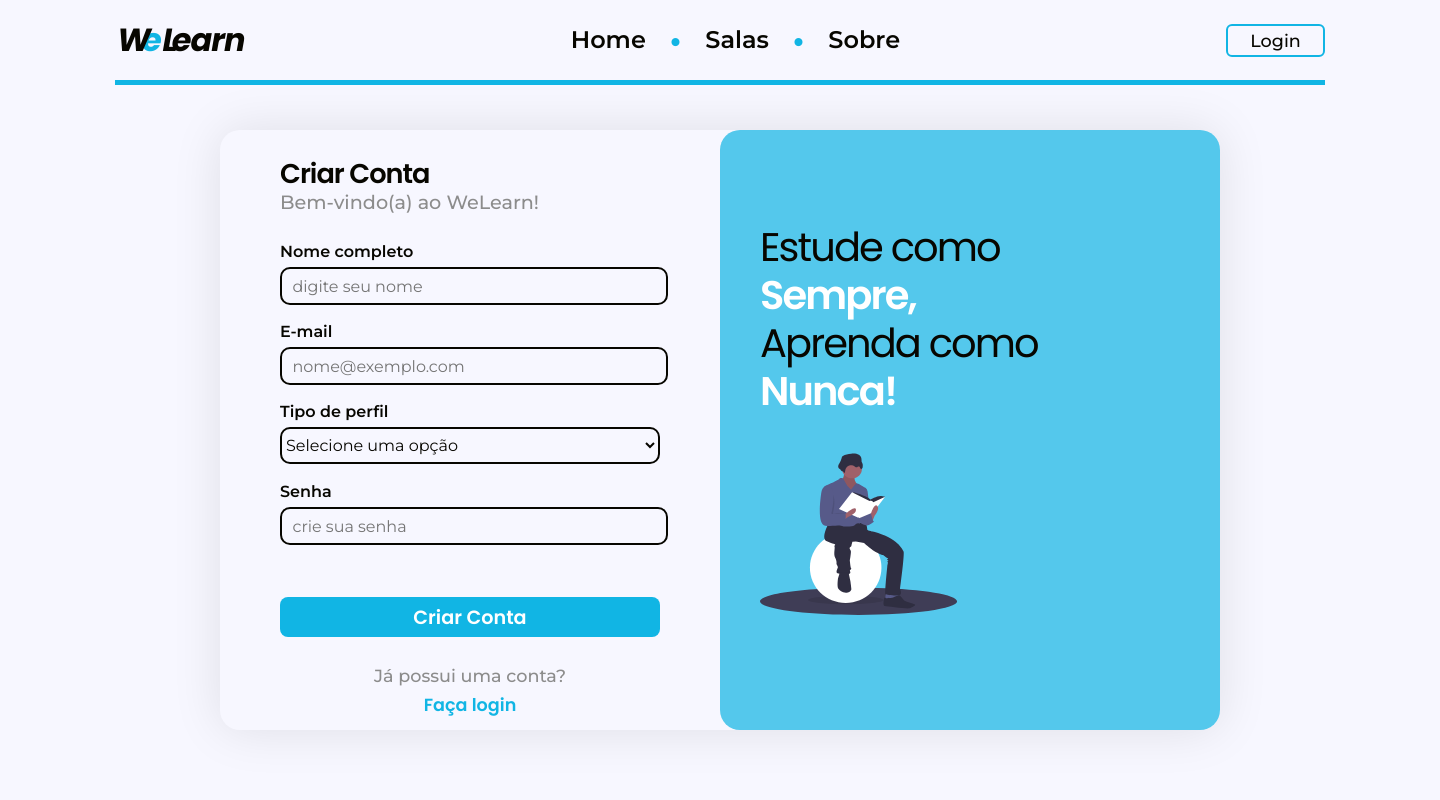
Test: Create Account Page › should show an error if no profile type is selected
Testa a criação de conta sem selecionar o tipo de perfil
Type "John Doe" into the field with placeholder " digite seu nome" at (474, 286), box [280, 267, 668, 305]
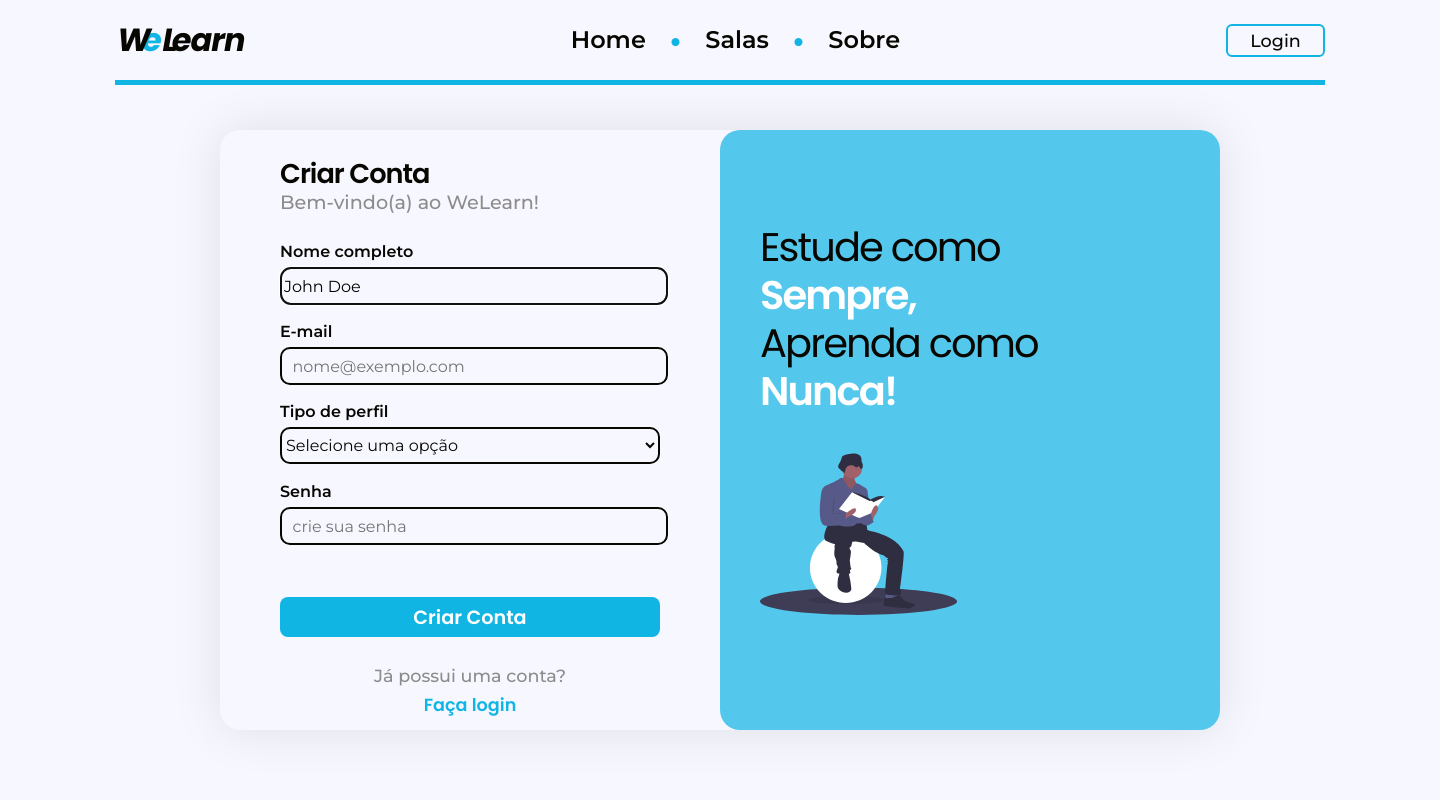
Type "user@example.com" into the field with placeholder " nome@exemplo.com" at (474, 366), box [280, 347, 668, 385]
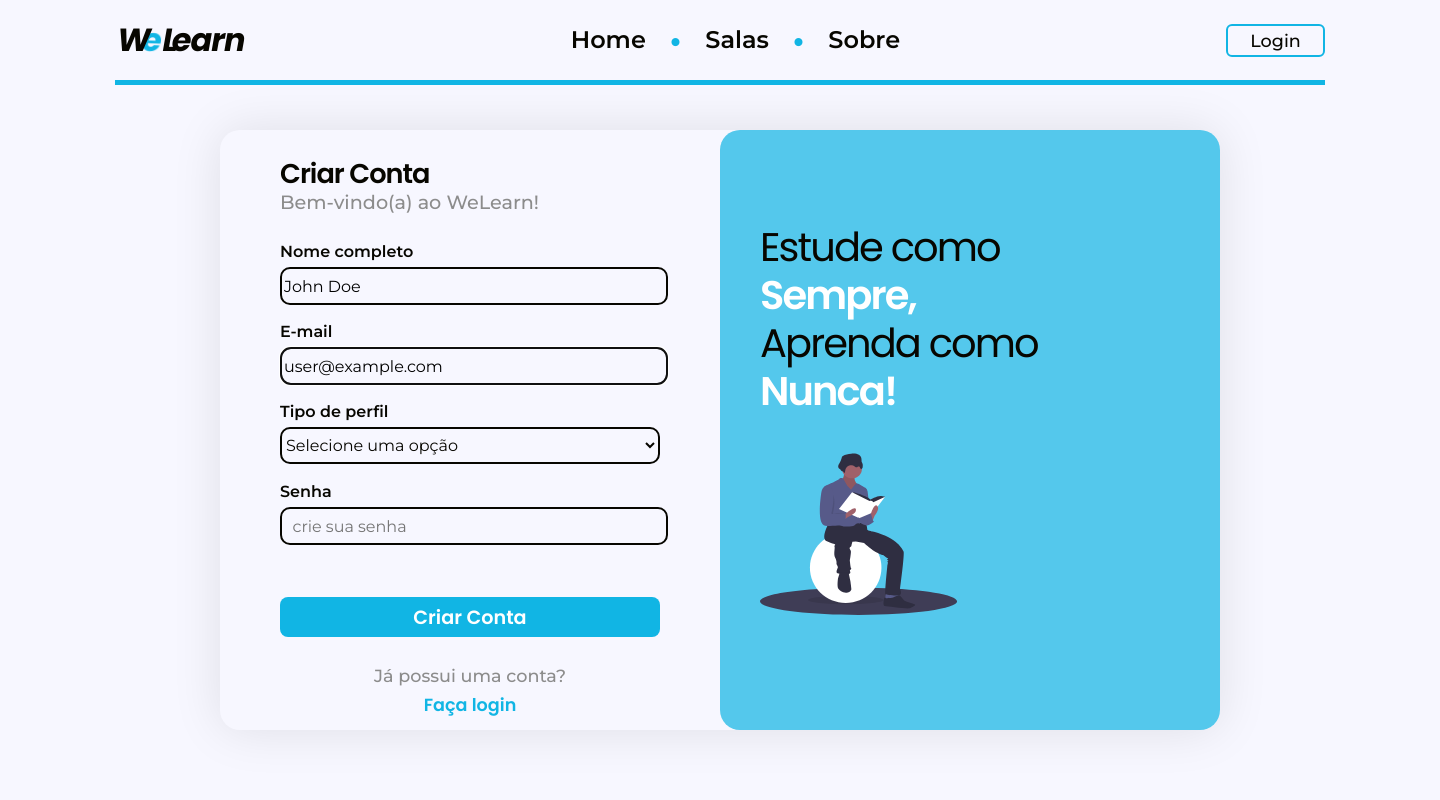
Type "password123" into the password field with placeholder " crie sua senha" at (474, 526), box [280, 507, 668, 545]
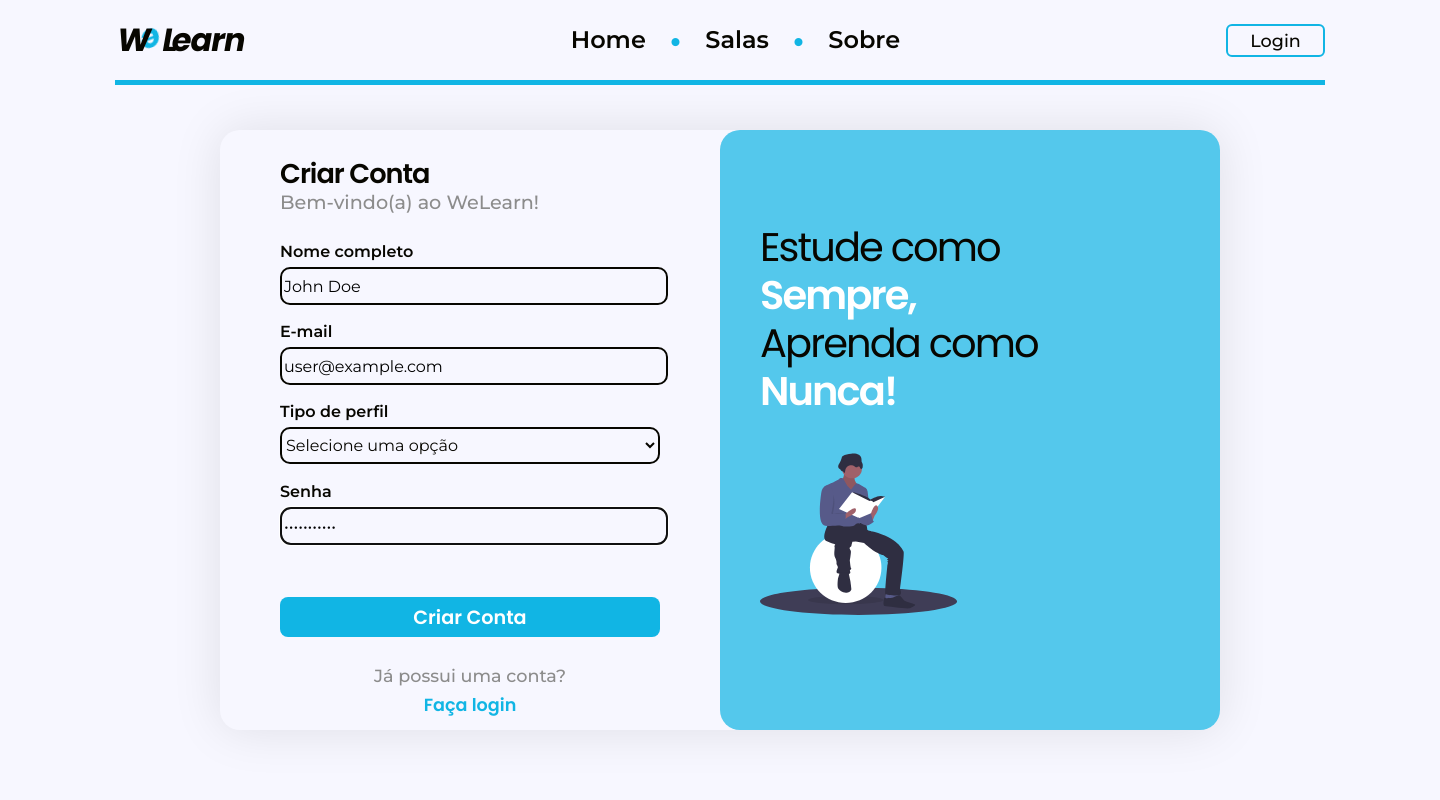
Click the button "Criar Conta" at (470, 617), box [280, 597, 660, 637]
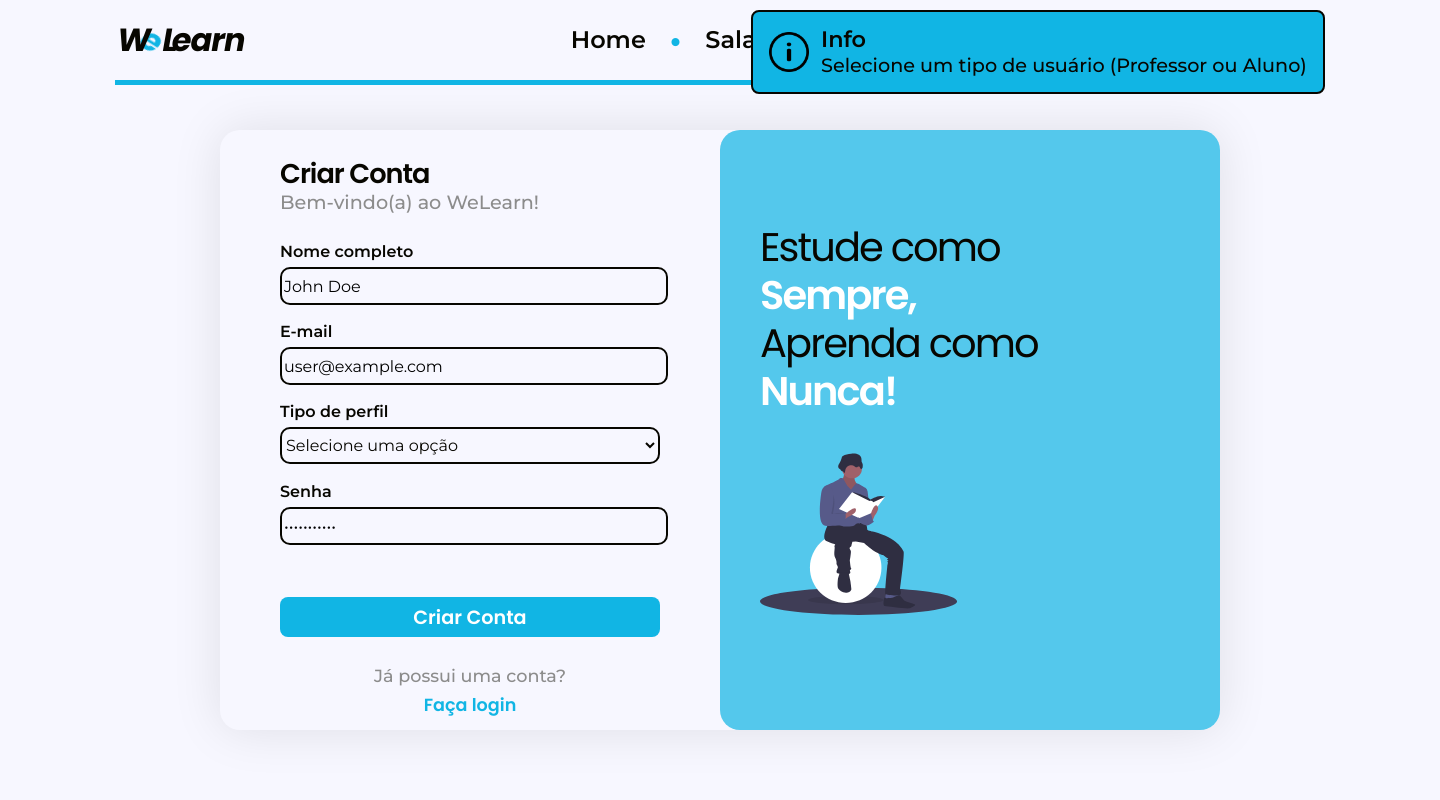
Result: the text "Selecione um tipo de usuário" is shown at [821, 53, 1307, 77]
